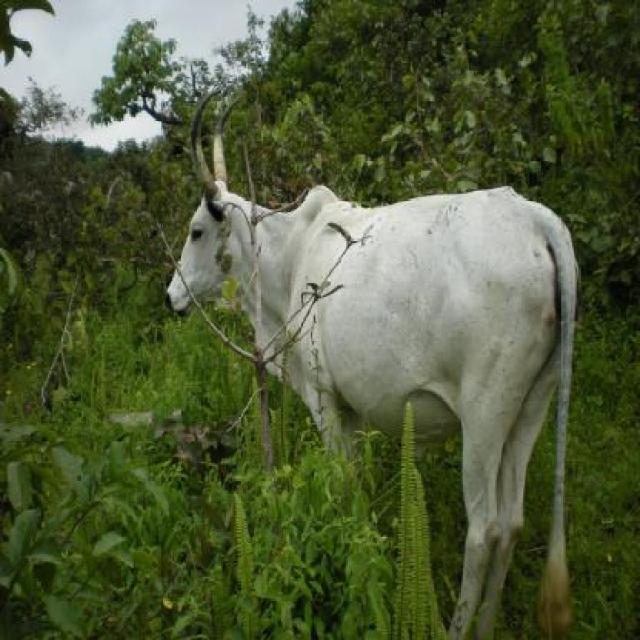Cow: (164, 87, 582, 638)
